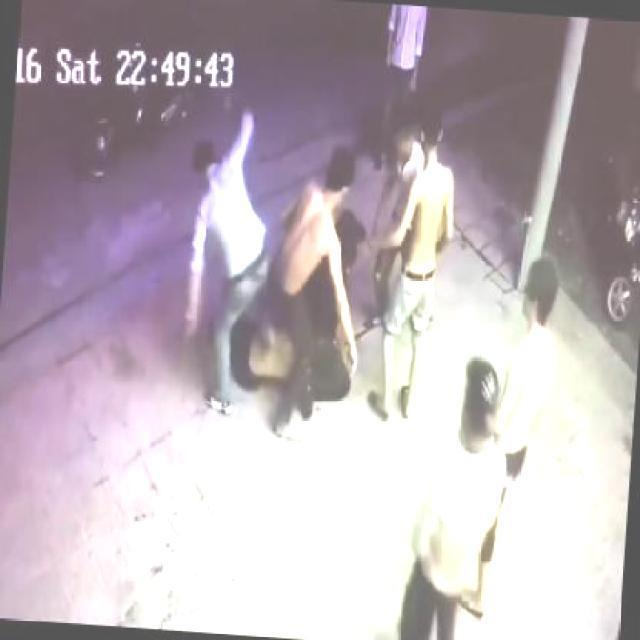fight: (164, 99, 380, 444)
